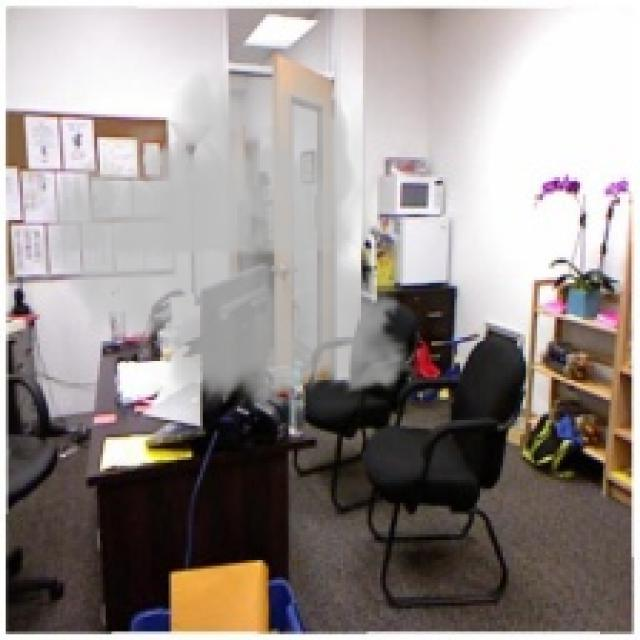smoke: (20, 40, 429, 417)
